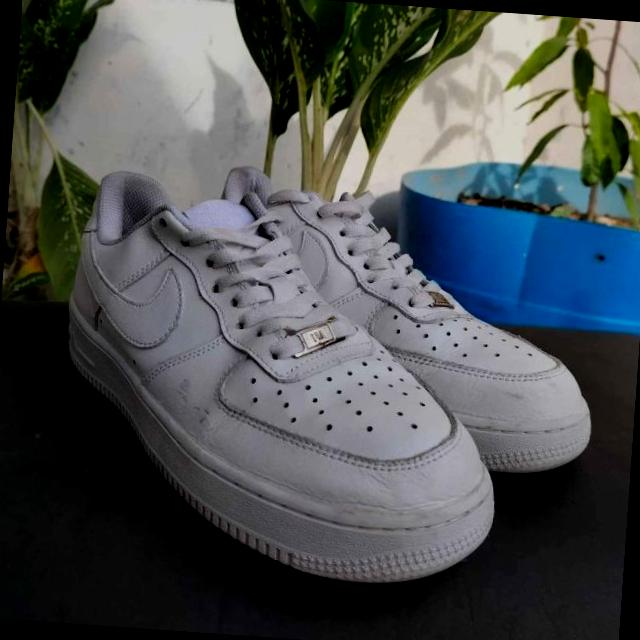nike_original_airforce: (2, 162, 516, 592), (197, 166, 610, 482)
